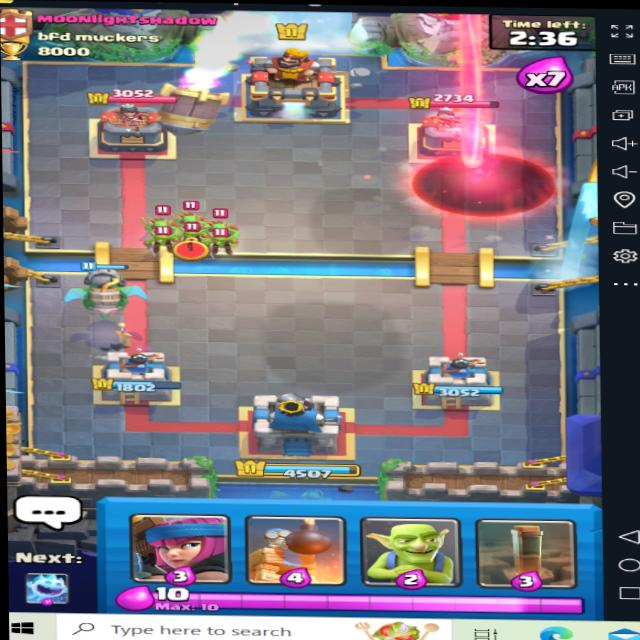goblin: (139, 227, 182, 253), (202, 228, 236, 251)
rocket: (132, 78, 232, 145)
spear-goblin: (141, 206, 174, 235), (208, 207, 239, 235), (175, 207, 207, 228)
void: (414, 154, 552, 217)
